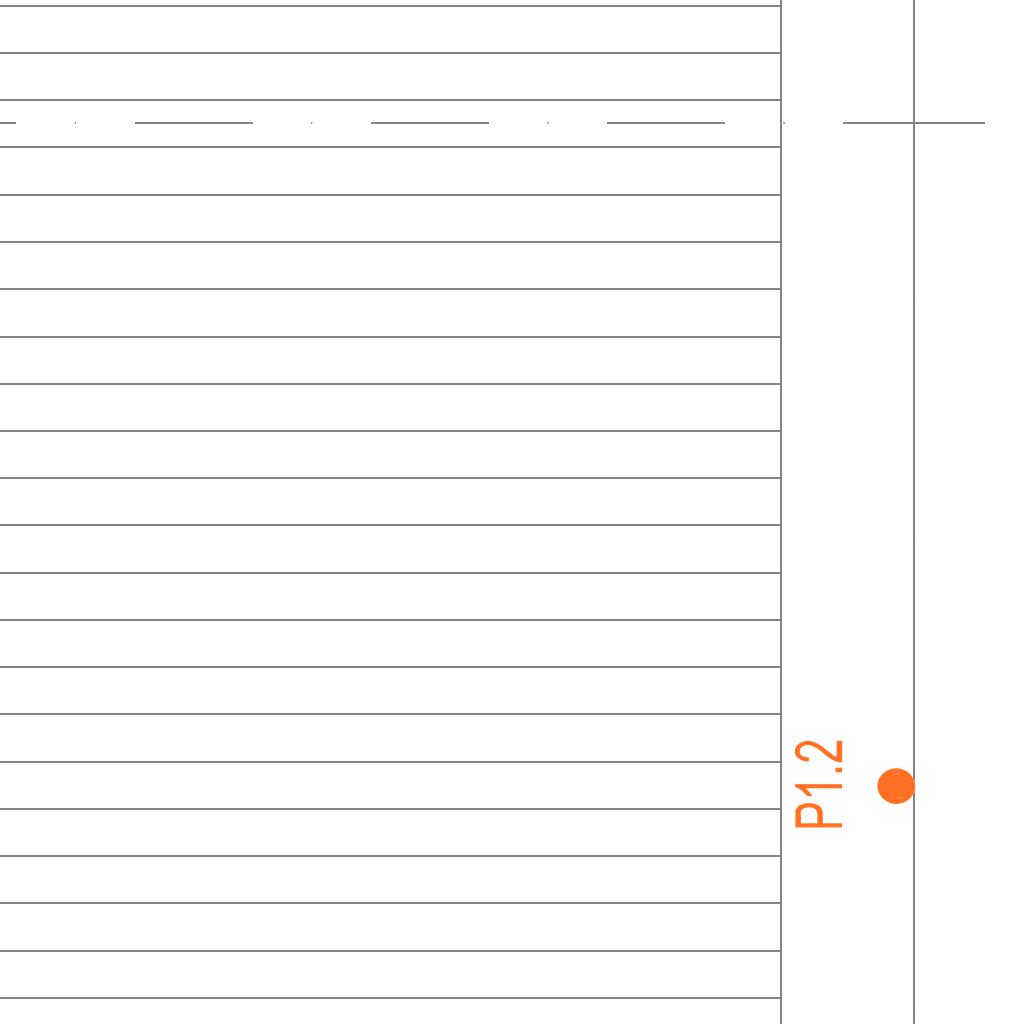Downlight_LED_Einbauleuchten_Flur: (791, 738, 919, 831)
